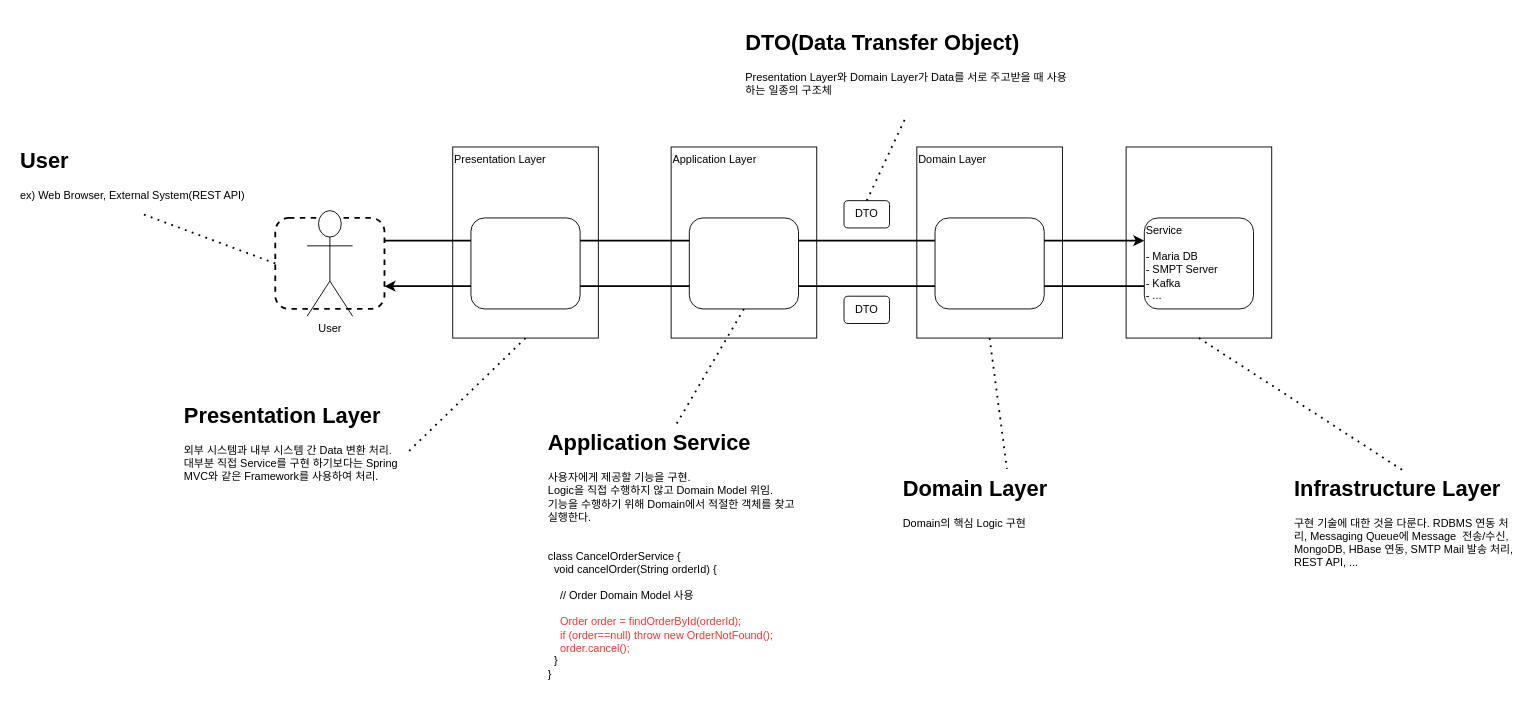
This 1532x704 diagram has some shape labels left out. The shapes that lost their labels are listed below. From the top down, each one's box as (x1, y1, x2, y2) in pixels, then its label:
(1125, 146, 1272, 338): Infrastructure Layer
(470, 217, 580, 309): Service - Controller - Converter,ORM - Json - ...
(688, 217, 799, 309): Application Service
(934, 217, 1044, 309): Domain Model - Entity - Value
